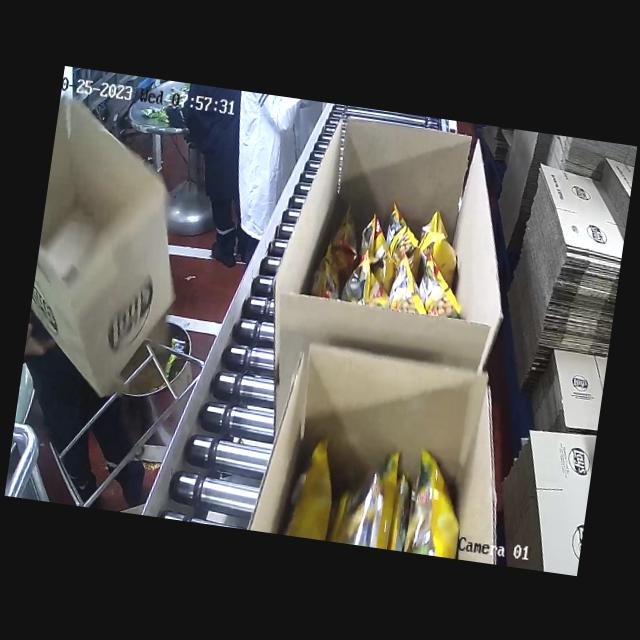salted: (297, 400, 485, 560), (336, 211, 456, 326)
